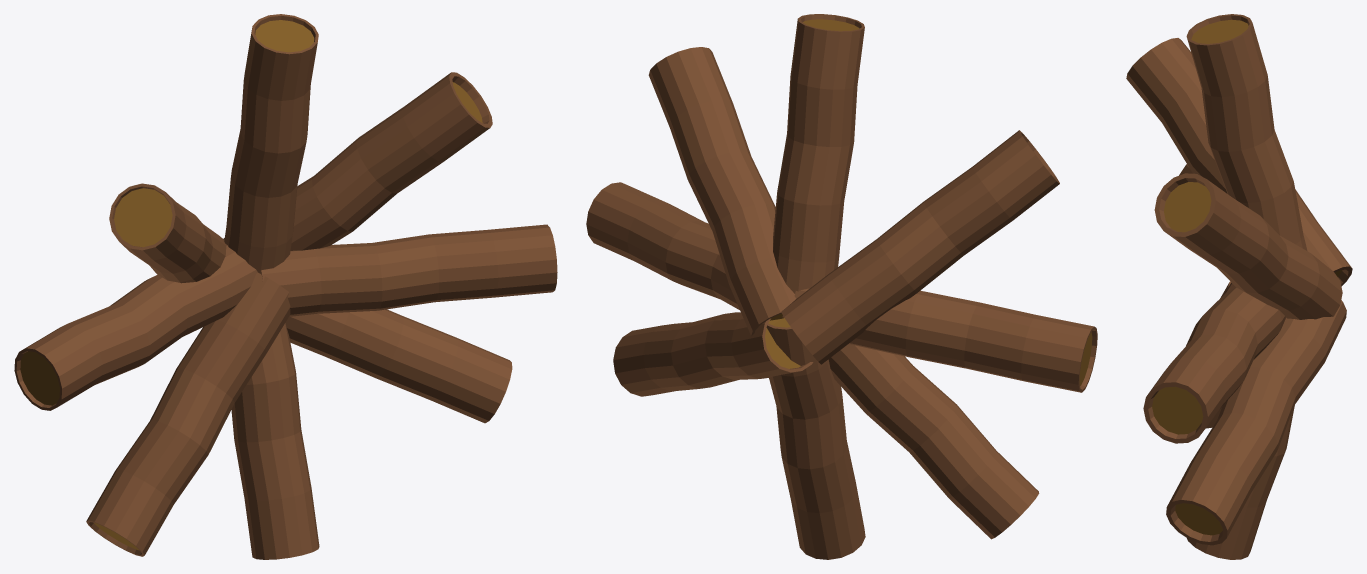
The model's file is wood.fbx.
The picture shows the model from 3 angles, left to right: view 1: azimuth 30°, elevation 25°; view 2: azimuth 150°, elevation 25°; view 3: azimuth 270°, elevation 25°; orthographic projection.
Parts seen in each view (by area): view 1: wooden; view 2: wooden; view 3: wooden.
Part boxes in pixels (bbox=[...]): wooden: bbox=[14, 14, 557, 559]; wooden: bbox=[586, 14, 1097, 559]; wooden: bbox=[1126, 14, 1352, 559].
Size of the model in its own units: 69.7 by 181 by 180.
